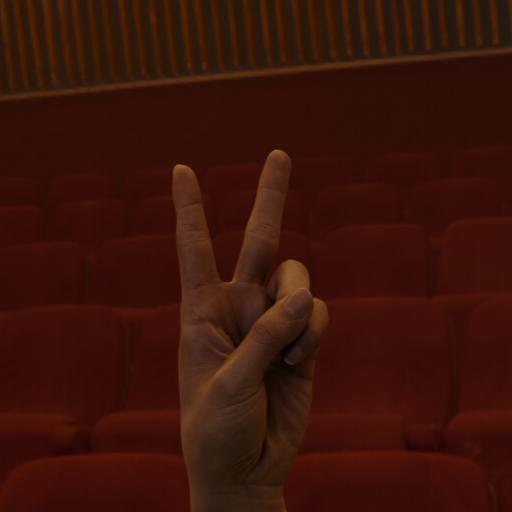V: (166, 145, 329, 478)
